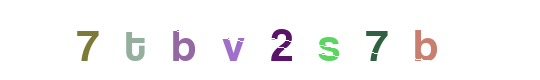2: (241, 0, 321, 80)
7: (58, 0, 138, 80), (336, 0, 416, 80)
B: (164, 0, 244, 80), (374, 0, 454, 80)
S: (289, 0, 369, 80)
T: (136, 0, 216, 80)
V: (230, 0, 310, 80)
